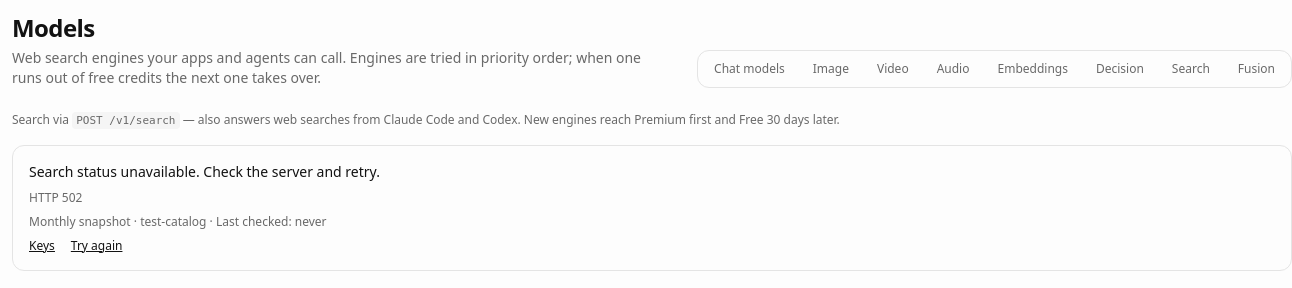
shows API errors and retry instead of claiming the catalog is empty
This screenshot has width=1292, height=288.
Expected: the message shows "HTTP 502", [29, 189, 82, 206]
Expected: the text "No search engines yet" is not shown
Click the button "Try again": (97, 246) [71, 238, 122, 254]
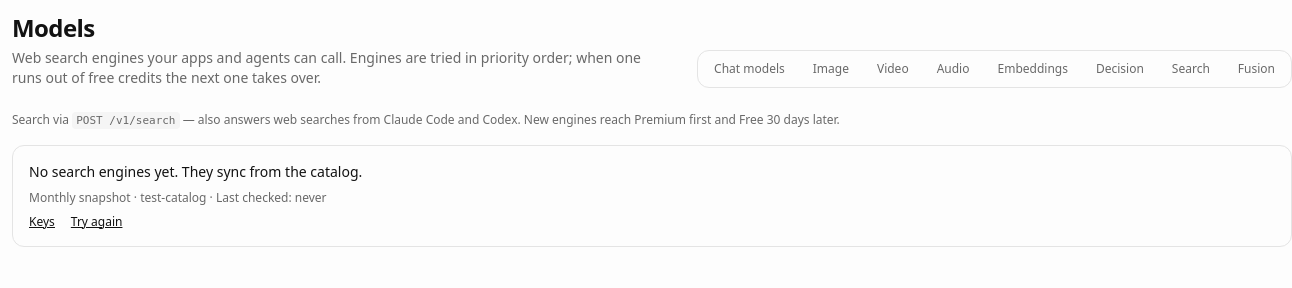
Expected: the text "No search engines yet" is shown, [29, 162, 362, 181]
